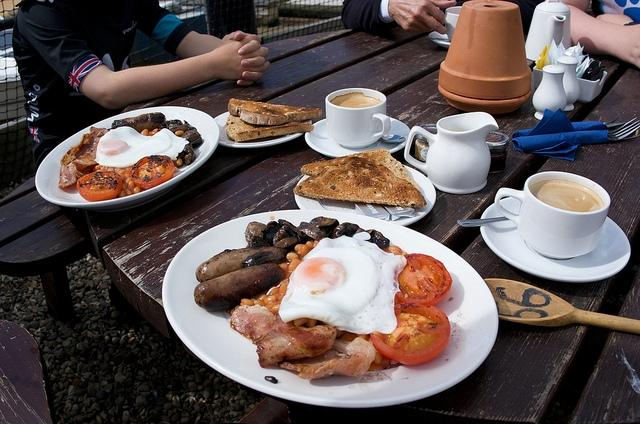tomato: (370, 302, 450, 366), (394, 253, 452, 308), (130, 155, 175, 190), (78, 171, 124, 202)
